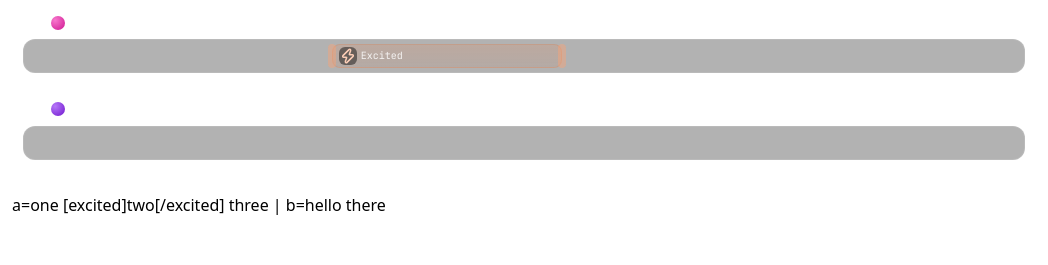
Test case: ScriptScore — the scene as stacked lanes › moves an edge from the numeric field, the accessible path
Click the button with aria-label "Region 1 of 1" at x=447, y=56, box x1=332 y1=44 x2=562 y2=68
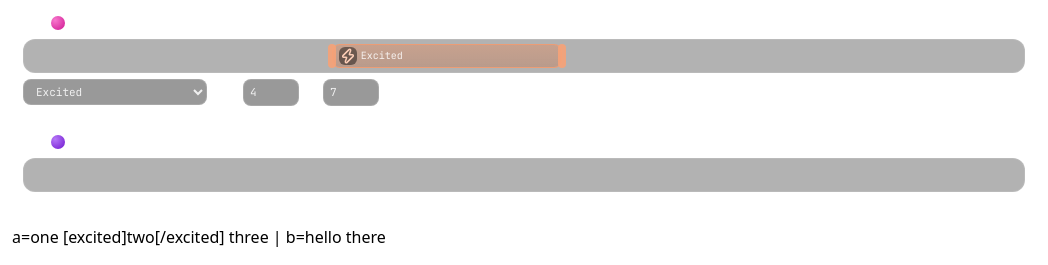
Replace the text in the number field named "Region start on line 1" with "0" at x=271, y=92, box x1=243 y1=79 x2=299 y2=106
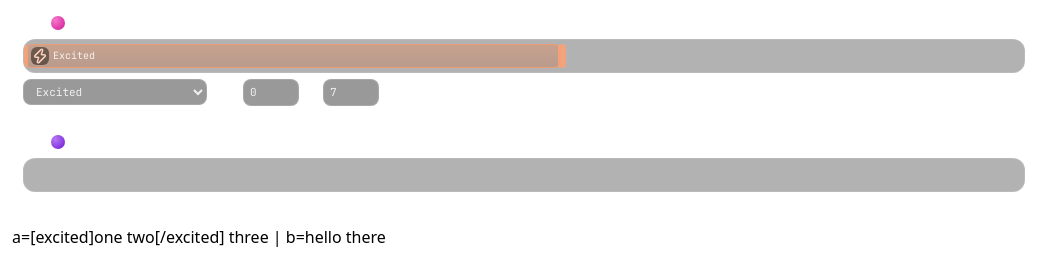
Expected: the text with test id "wire" shows "a=[excited]one two[/excited] three", x1=12 y1=226 x2=386 y2=248
